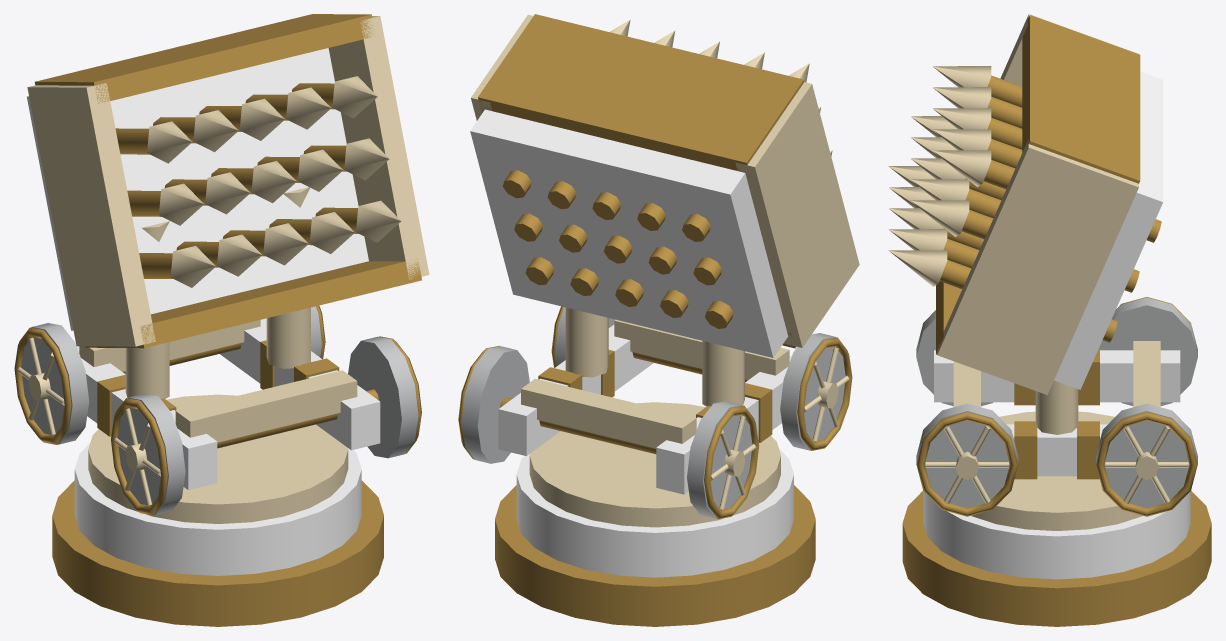
Rendered from hwacha.glb.
The picture shows the model from 3 angles, left to right: view 1: azimuth 30°, elevation 25°; view 2: azimuth 150°, elevation 25°; view 3: azimuth 270°, elevation 25°; orthographic projection. The views are drawn at different scales.
Visible parts, largest first — view 1: Rack side rails (×2), Enamel rack back, Trim plinth, Rack cross rails (×2), Ivory rocket tip (×15), Enamel base, Ivory base bead, catapult ivory cross sill 0.215, catapult enamel wheel 1 0.215, Rack post (×2), catapult enamel wheel -1 0.215, catapult enamel wheel -1 -0.215 (+9 smaller); view 2: Enamel rack back, Rack cross rails, Trim plinth, Rack side rails (×2), Enamel base, Ivory base bead, Rocket shaft (×15), catapult ivory cross sill -0.215, Rack post (×2), catapult enamel wheel 1 -0.215, catapult enamel wheel -1 -0.215, catapult enamel chassis 1 (+8 smaller); view 3: Rack side rails (×2), Trim plinth, Rack cross rails (×2), Ivory rocket tip (×15), Enamel base, Enamel rack back, Ivory base bead, Rocket shaft (×9), catapult enamel wheel 1 -0.215, catapult enamel wheel 1 0.215, catapult enamel chassis -1, catapult enamel wheel -1 -0.215 (+12 smaller).
Boxes of the visible parts, left/top/right/bottom form: Rack side rails (×2): left=27, top=16, right=429, bottom=346; Enamel rack back: left=27, top=48, right=368, bottom=330; Trim plinth: left=52, top=480, right=383, bottom=626; Rack cross rails (×2): left=34, top=14, right=421, bottom=348; Ivory rocket tip (×15): left=147, top=76, right=401, bottom=287; Enamel base: left=74, top=443, right=361, bottom=575; Ivory base bead: left=88, top=394, right=348, bottom=523; catapult ivory cross sill 0.215: left=175, top=370, right=357, bottom=442; catapult enamel wheel 1 0.215: left=348, top=336, right=418, bottom=458; Rack post (×2): left=125, top=187, right=310, bottom=398; catapult enamel wheel -1 0.215: left=118, top=393, right=185, bottom=514; catapult enamel wheel -1 -0.215: left=21, top=323, right=89, bottom=444; Enamel rack back: left=470, top=109, right=788, bottom=357; Rack cross rails: left=478, top=14, right=804, bottom=177; Trim plinth: left=495, top=485, right=815, bottom=626; Rack side rails (×2): left=471, top=14, right=859, bottom=347; Enamel base: left=516, top=449, right=793, bottom=577; Ivory base bead: left=529, top=402, right=780, bottom=527; Rocket shaft (×15): left=503, top=170, right=733, bottom=328; catapult ivory cross sill -0.215: left=521, top=378, right=696, bottom=448; Rack post (×2): left=565, top=307, right=744, bottom=406; catapult enamel wheel 1 -0.215: left=461, top=346, right=529, bottom=463; catapult enamel wheel -1 -0.215: left=687, top=401, right=752, bottom=518; catapult enamel chassis 1: left=498, top=324, right=653, bottom=455; Rack side rails (×2): left=937, top=14, right=1138, bottom=394; Trim plinth: left=902, top=490, right=1211, bottom=626; Rack cross rails (×2): left=936, top=15, right=1140, bottom=354; Ivory rocket tip (×15): left=888, top=66, right=991, bottom=286; Enamel base: left=923, top=491, right=1190, bottom=579; Enamel rack back: left=1054, top=71, right=1163, bottom=389; Ivory base bead: left=971, top=411, right=1142, bottom=530; Rocket shaft (×9): left=940, top=75, right=1161, bottom=342; catapult enamel wheel 1 -0.215: left=1096, top=403, right=1197, bottom=507; catapult enamel wheel 1 0.215: left=916, top=403, right=1018, bottom=508; catapult enamel chassis -1: left=934, top=350, right=1180, bottom=402; catapult enamel wheel -1 -0.215: left=1099, top=297, right=1197, bottom=405.
Bounding box in the file's own units: 0.4795 × 0.8095 × 0.4905.
